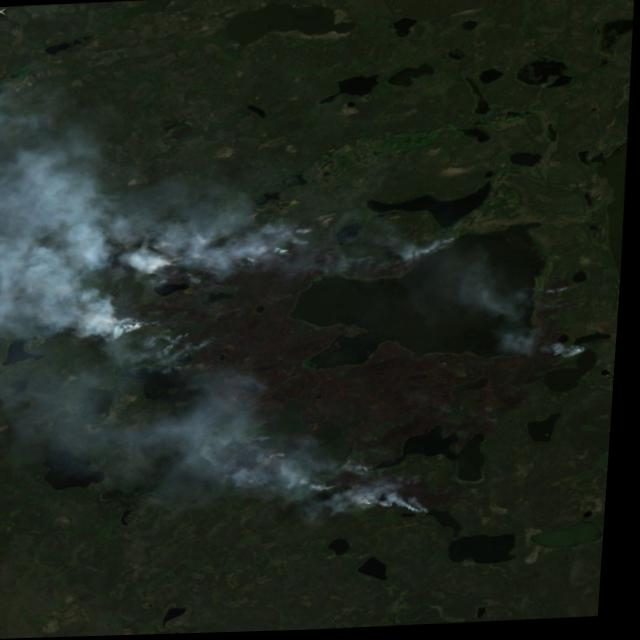fire: (83, 210, 461, 536)
